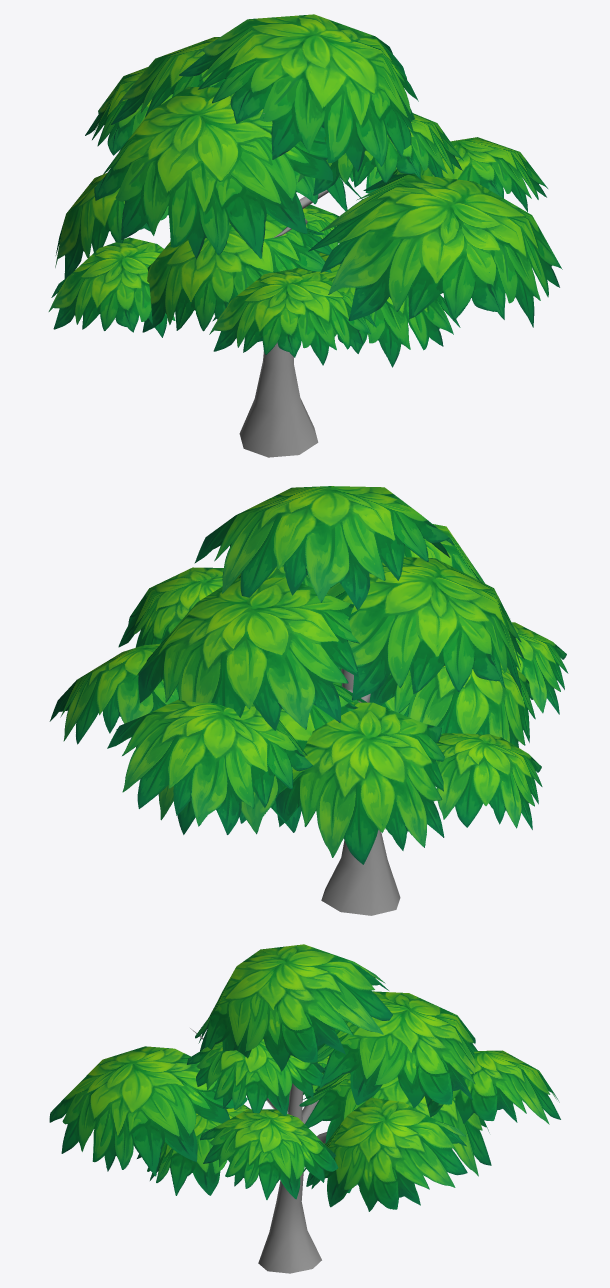
Rendered from TreeType1.FBX.
3 views of the same model, one above another, from view 1: azimuth 30°, elevation 25°; view 2: azimuth 150°, elevation 25°; view 3: azimuth 270°, elevation 25° (orthographic). The views are drawn at different scales.
Visible parts, largest first — view 1: Trunk; view 2: Trunk; view 3: Trunk.
Part boxes in pixels (x1,y1,x2,y2): Trunk: (48,14,562,457); Trunk: (49,486,568,915); Trunk: (49,944,560,1273).
Size of the model in its own units: 425 by 334 by 561.
